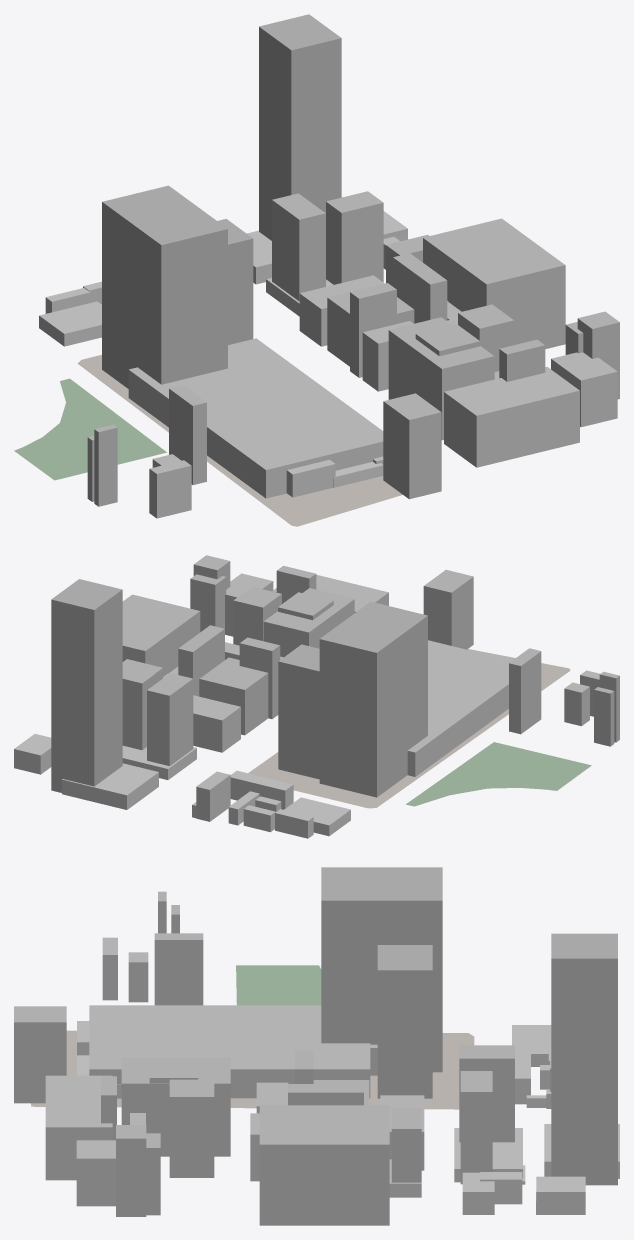
The model's file is 120_102_mid.glb.
3 renders of one model, top to bottom at view 1: azimuth 30°, elevation 25°; view 2: azimuth 150°, elevation 25°; view 3: azimuth 270°, elevation 25°, orthographic. The views are drawn at different scales.
Bounding box in the file's own units: 518 × 210 × 509.
